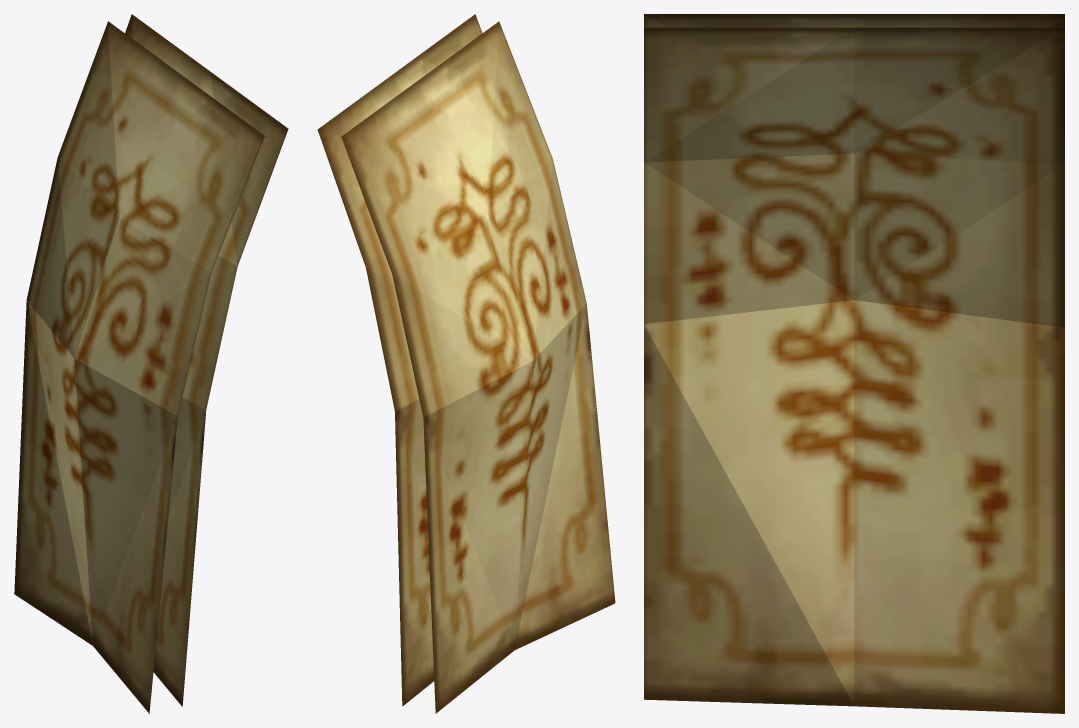
Rendered from Bison_chineseTalisman_chineseTalisman1.obj.
The picture shows the model from 3 angles, left to right: view 1: azimuth 30°, elevation 25°; view 2: azimuth 150°, elevation 25°; view 3: azimuth 270°, elevation 25°; orthographic projection. The views are drawn at different scales.
Parts seen in each view (by area): view 1: Bison_chineseTalisman_tri [chineseTalisman1]; view 2: Bison_chineseTalisman_tri [chineseTalisman1]; view 3: Bison_chineseTalisman_tri [chineseTalisman1].
Boxes of the visible parts, left/top/right/bottom form: Bison_chineseTalisman_tri [chineseTalisman1]: left=14, top=14, right=288, bottom=713; Bison_chineseTalisman_tri [chineseTalisman1]: left=317, top=14, right=615, bottom=713; Bison_chineseTalisman_tri [chineseTalisman1]: left=644, top=14, right=1064, bottom=713.
Size of the model in its own units: 0.1447 by 0.5495 by 0.2827.
1 material, 1 textured.
